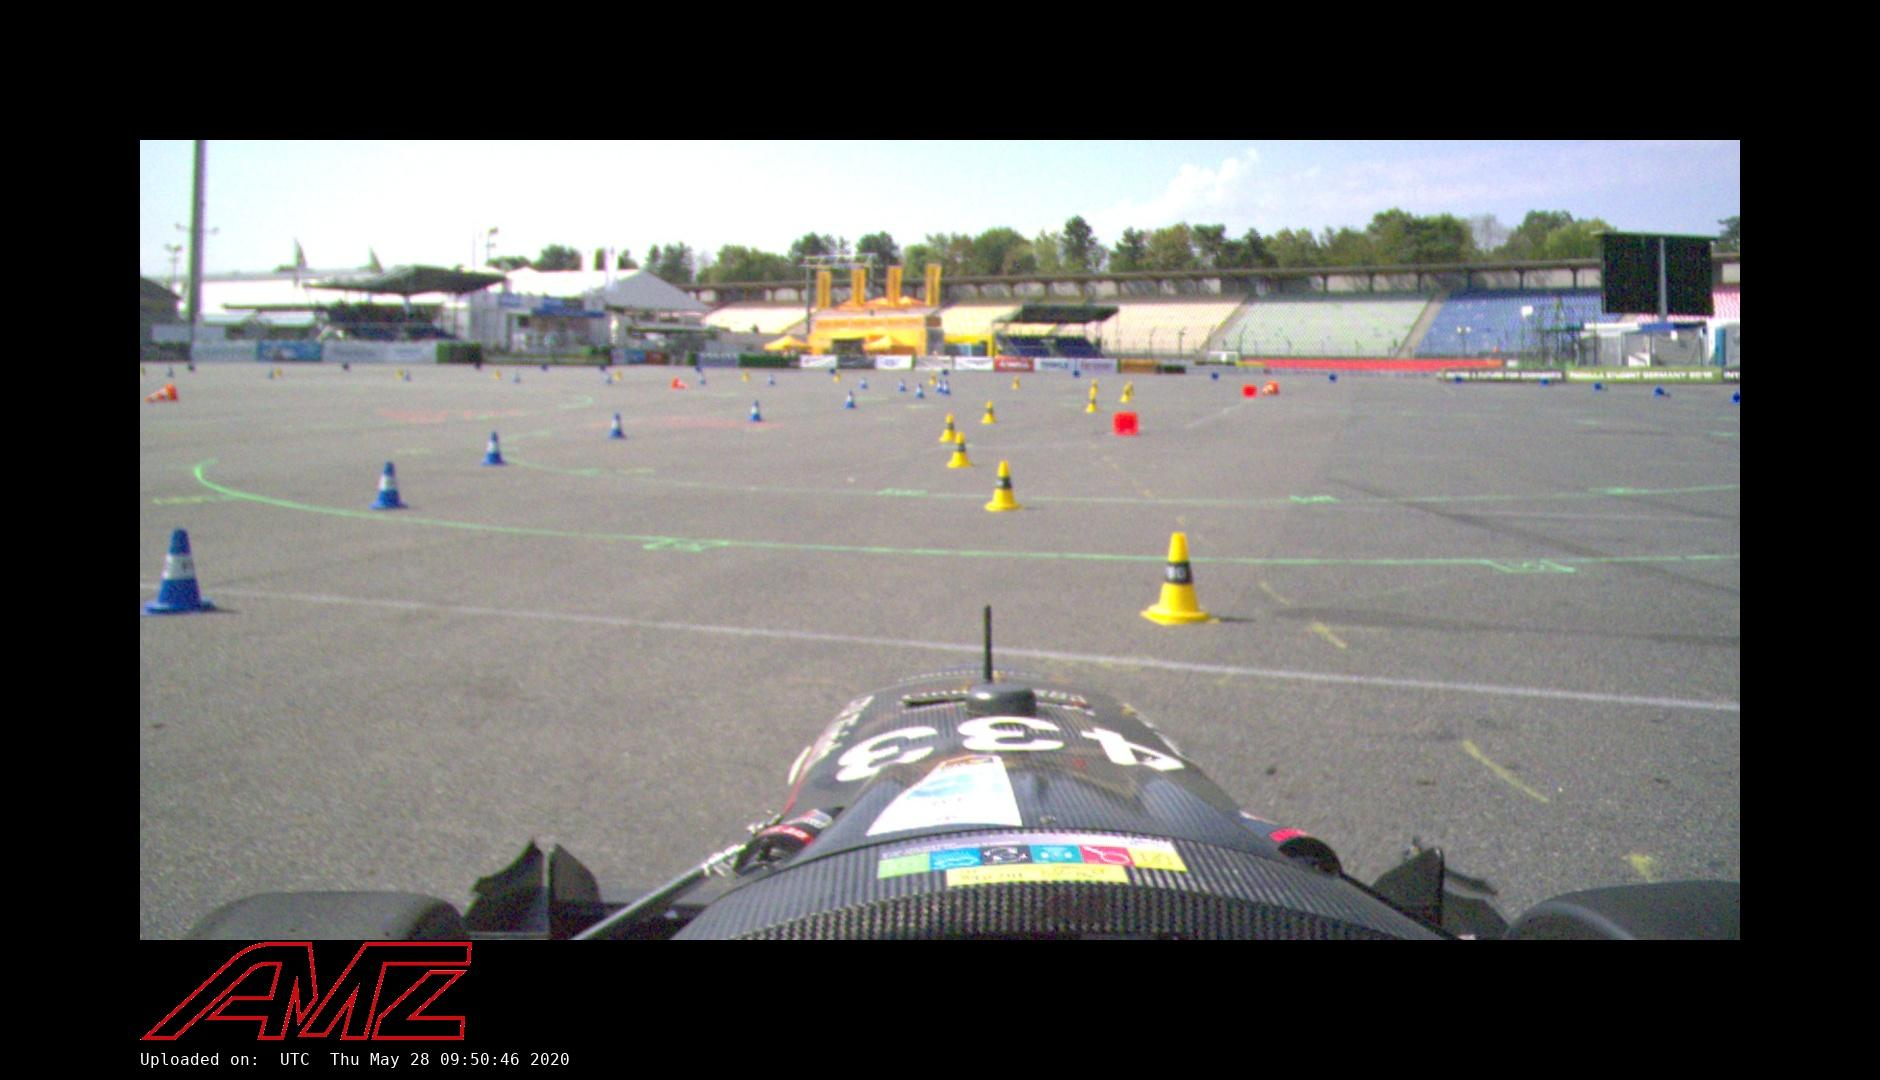blue_cone: (139, 526, 218, 618), (369, 459, 411, 512), (480, 430, 507, 466), (606, 411, 628, 441), (748, 400, 764, 422), (842, 390, 857, 410), (914, 382, 926, 400), (897, 379, 908, 391), (943, 380, 950, 395), (936, 379, 944, 393), (859, 377, 868, 389)
orange_cone: (145, 384, 179, 404), (1113, 412, 1139, 437), (1241, 382, 1260, 400), (1262, 381, 1281, 397), (671, 379, 690, 390)
yellow_cone: (1139, 531, 1220, 627), (984, 460, 1023, 512), (946, 431, 974, 468), (937, 413, 959, 442), (980, 400, 998, 424), (1083, 391, 1100, 413), (1121, 386, 1131, 402), (1126, 381, 1136, 397), (1012, 375, 1021, 389), (1090, 380, 1100, 391), (928, 372, 937, 385)
